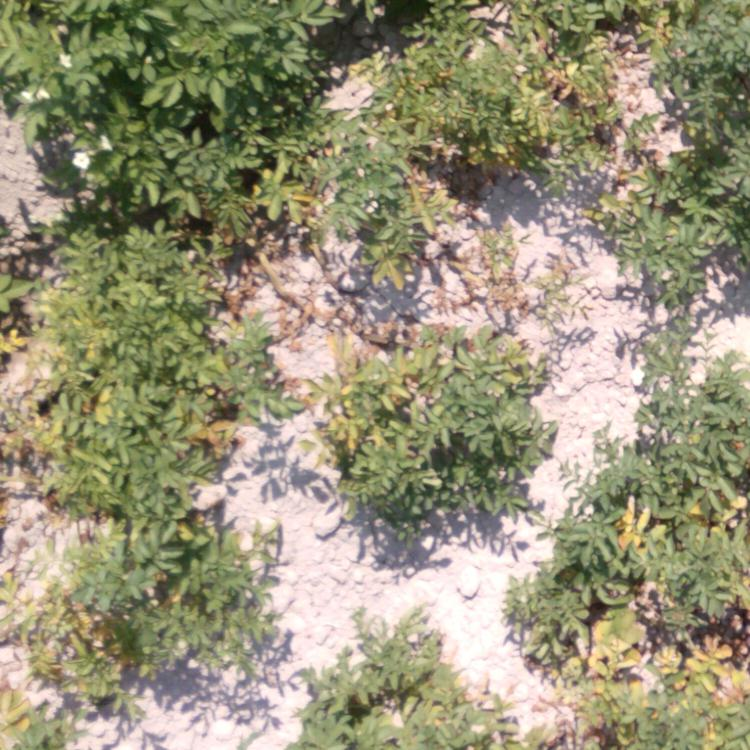healthy: (7, 1, 345, 123), (670, 5, 749, 250), (325, 644, 454, 742)
stressed: (38, 222, 245, 504), (301, 314, 549, 527), (540, 488, 741, 743), (26, 521, 259, 686), (479, 1, 650, 220), (254, 135, 464, 297), (1, 697, 62, 742)
